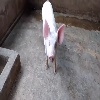heo: (39, 16, 66, 64)
